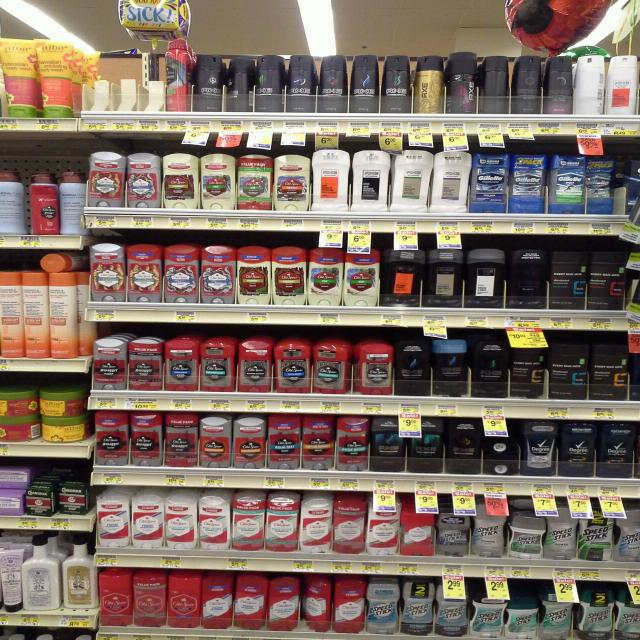unorganised: (570, 55, 607, 116), (56, 170, 86, 237), (509, 511, 545, 561), (1, 168, 26, 236), (481, 53, 509, 112), (586, 153, 613, 208), (438, 512, 468, 558), (35, 251, 76, 274)
